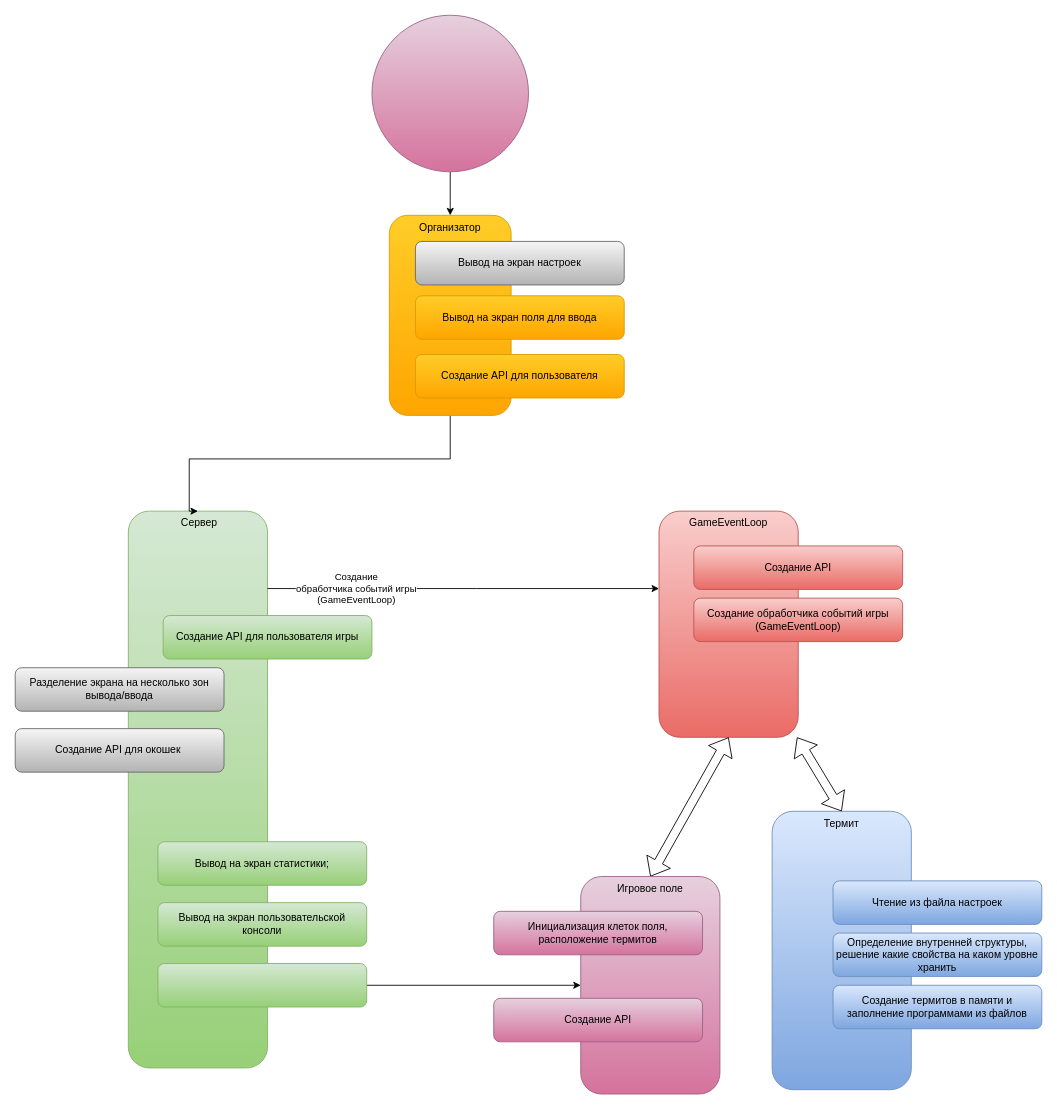
The diagram is 1057 pixels wide and 1109 high, and some of its shapes have lost their labels. Here are the shapes that lost their labels. From the top down, the centre of each, then its label:
At point (450, 93): "Старт программы".
At point (262, 985): "Вывод на экран поле".
